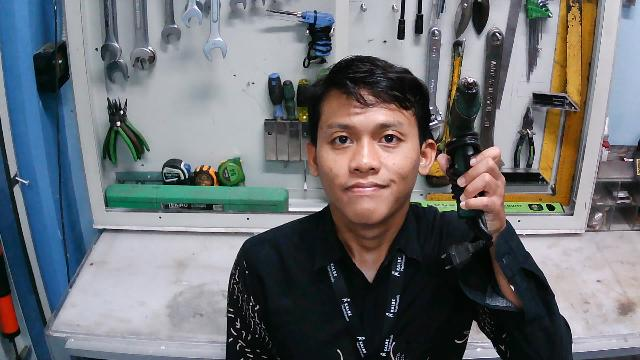gun_lem: (444, 69, 503, 228)
